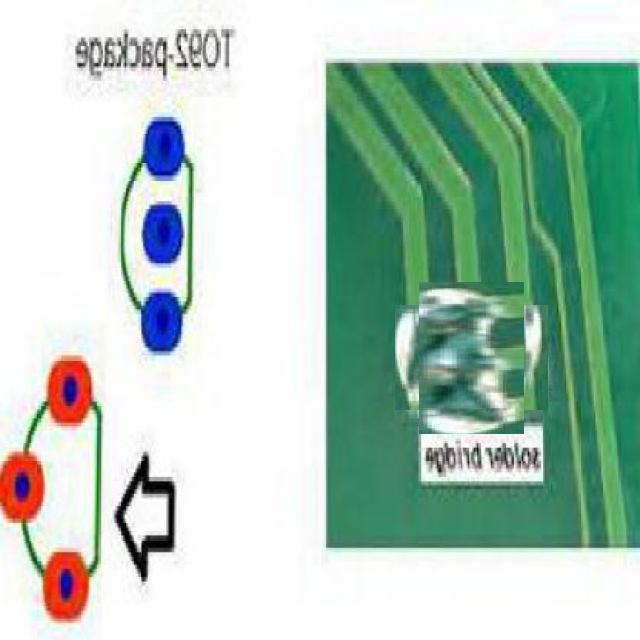Short_circuit: (407, 293, 536, 422)
